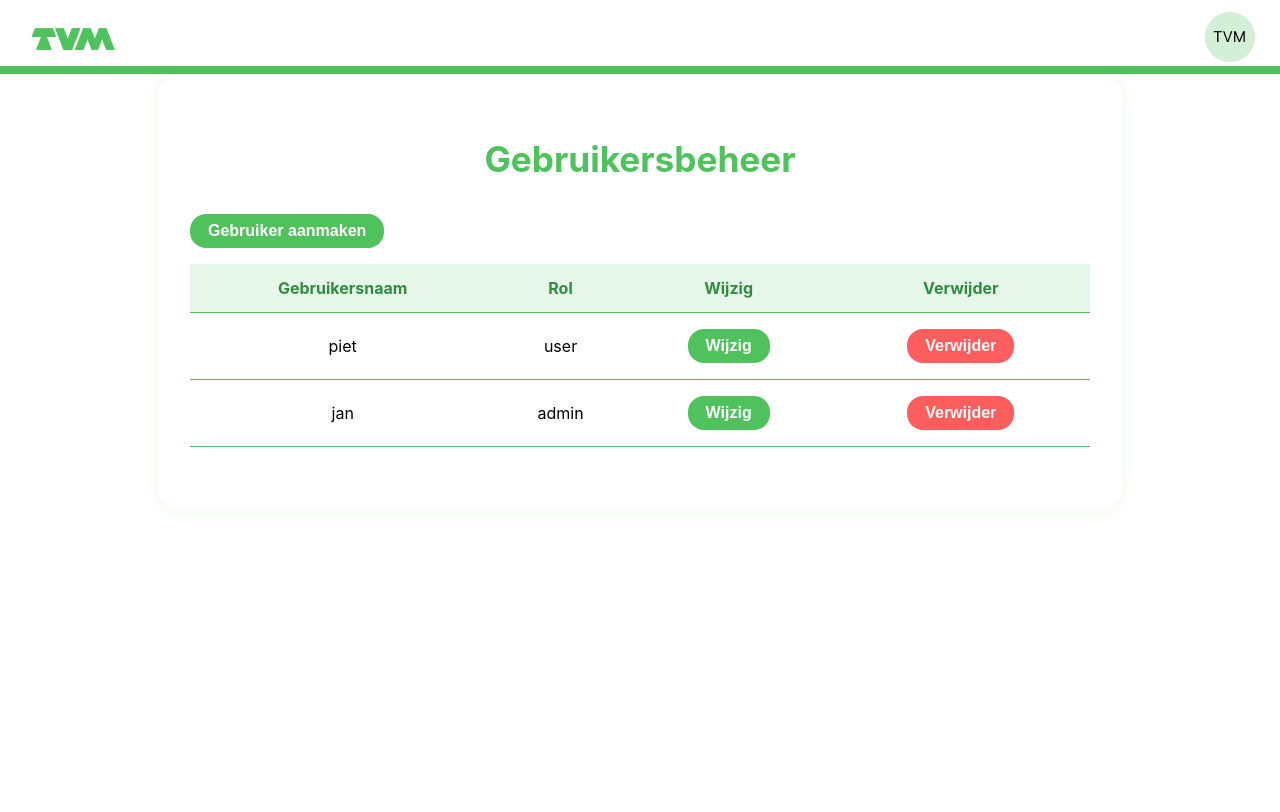
Test: kan een gebruiker toevoegen
Click the button "Gebruiker aanmaken". click: (287, 231)
box: [190,214,384,248]
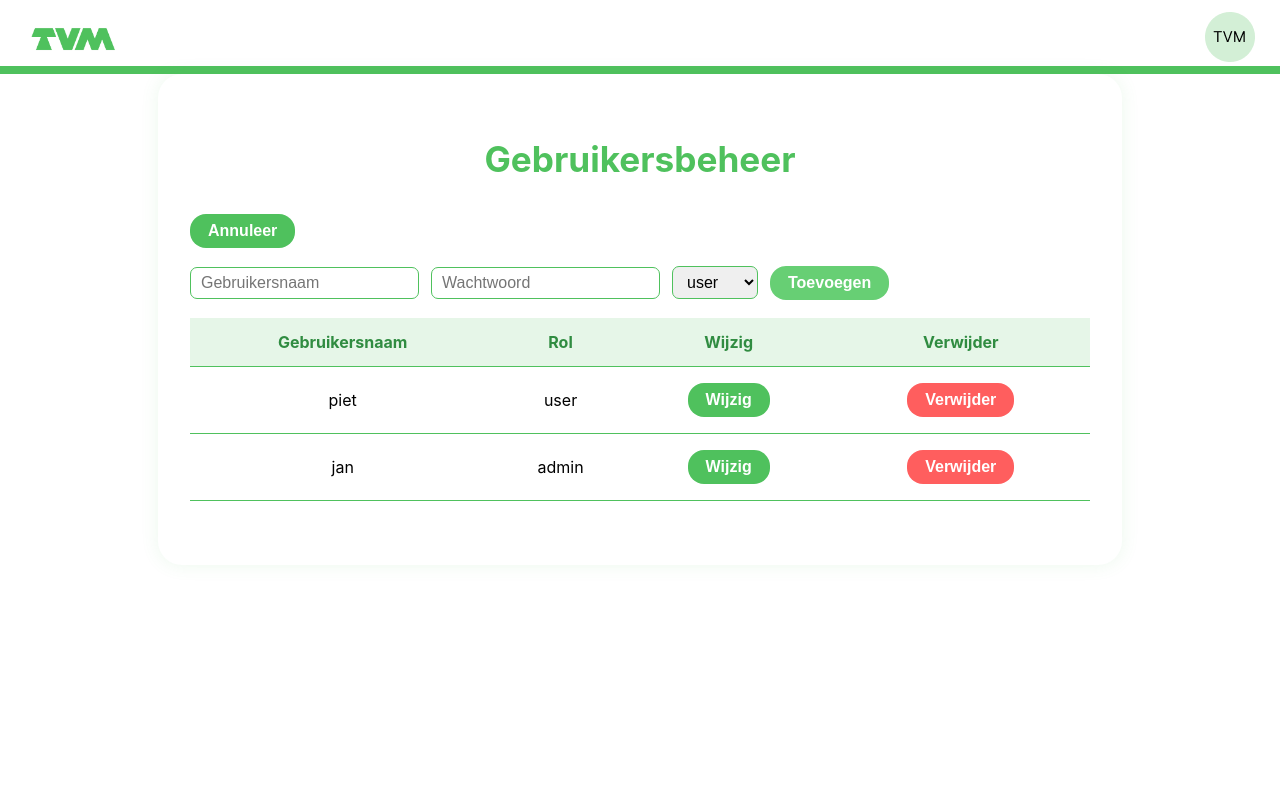
Type "klaas" into the field with placeholder "Gebruikersnaam". click: (304, 283)
box: [190,267,419,299]
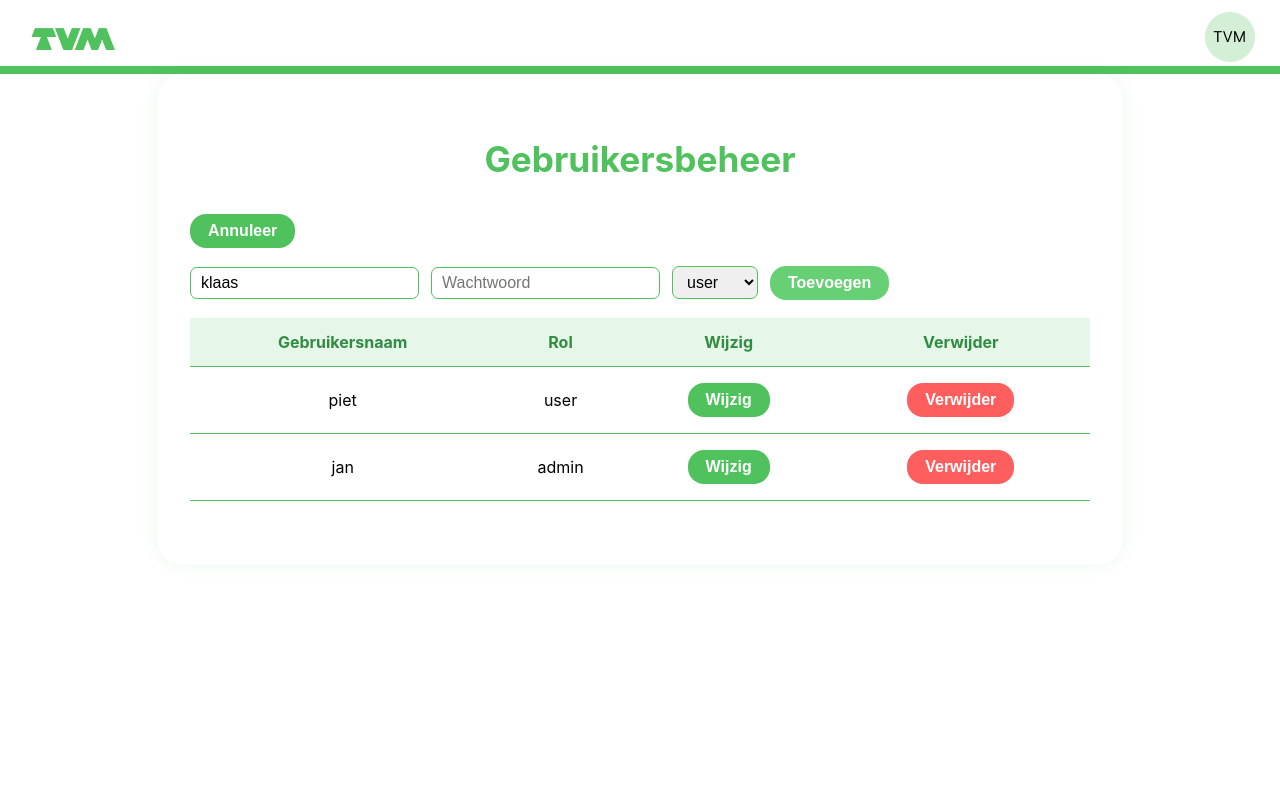
Type "test123" into the password field with placeholder "Wachtwoord". click: (546, 283)
box: [431,267,660,299]
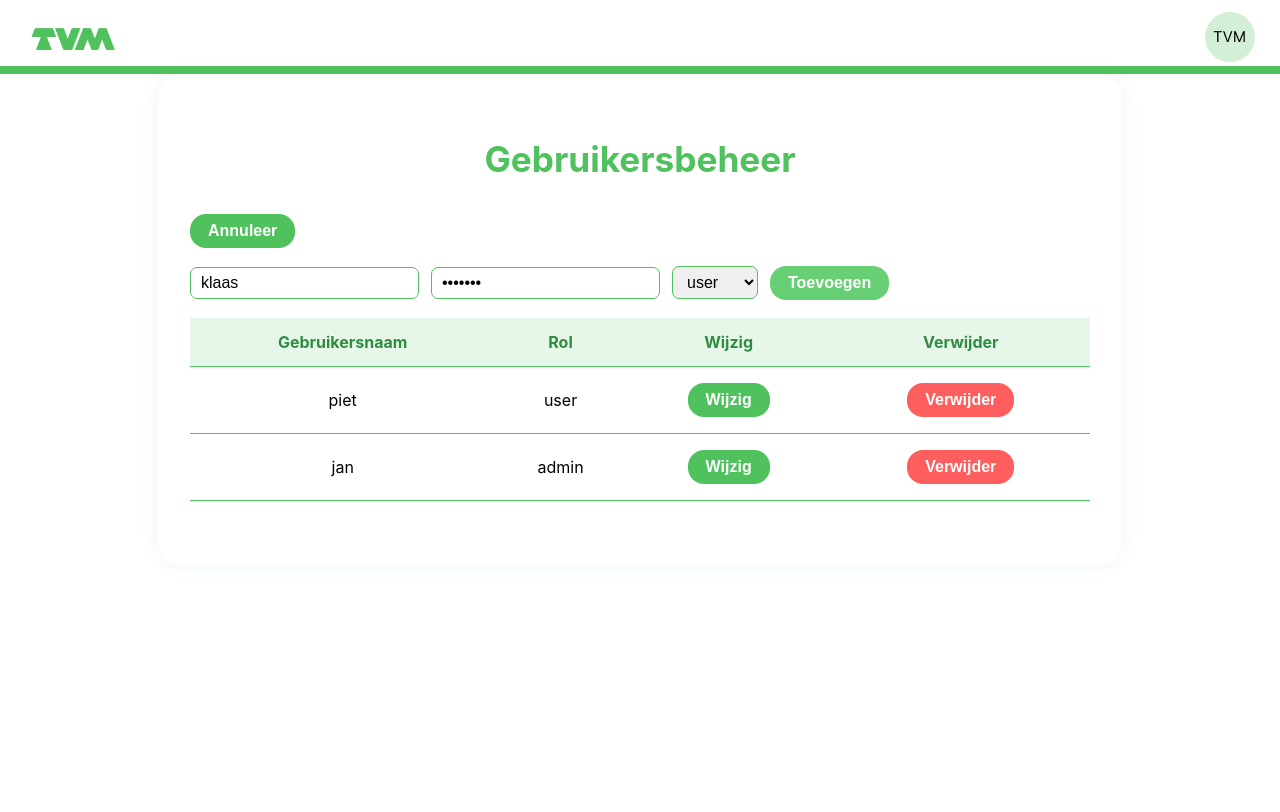
Select "admin" in the dropdown showing "user". click: (715, 283)
box: [672,266,758,299]
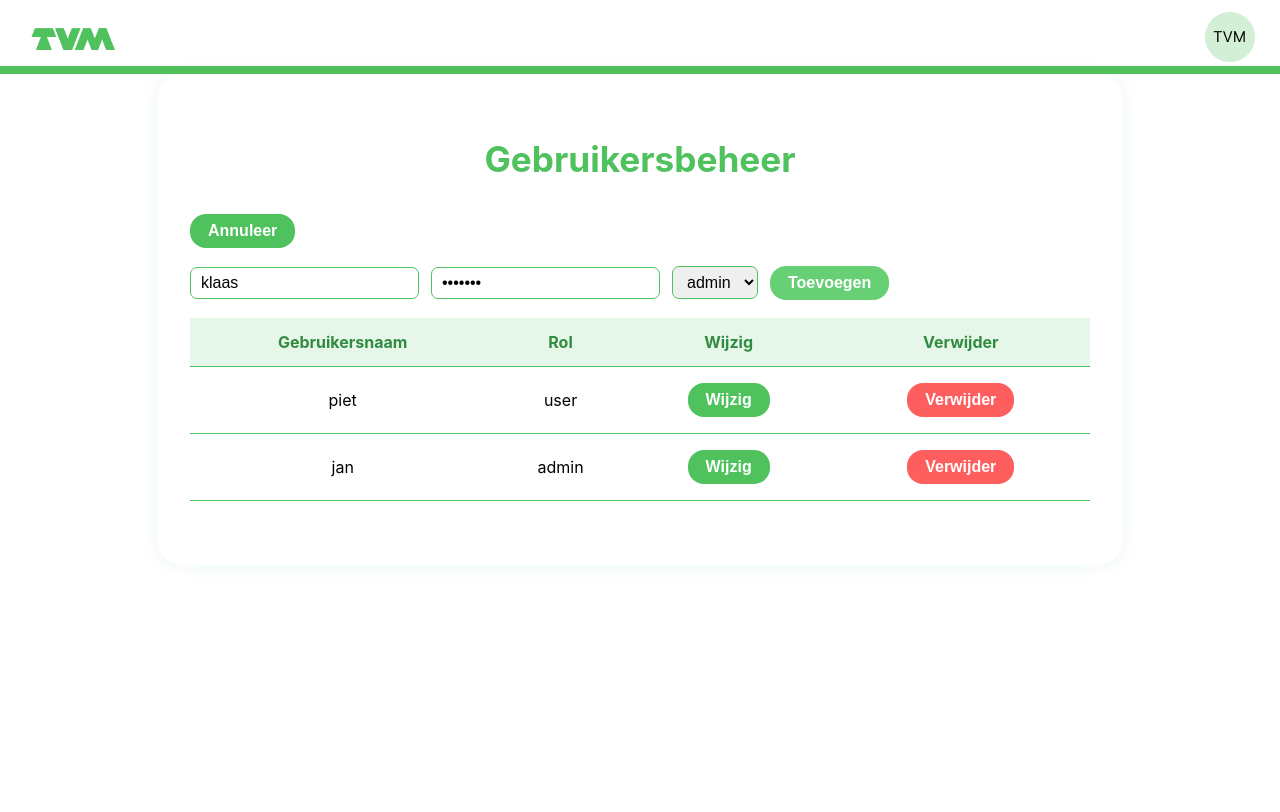
Click the button "Toevoegen". click: (830, 283)
box: [770,266,889,300]
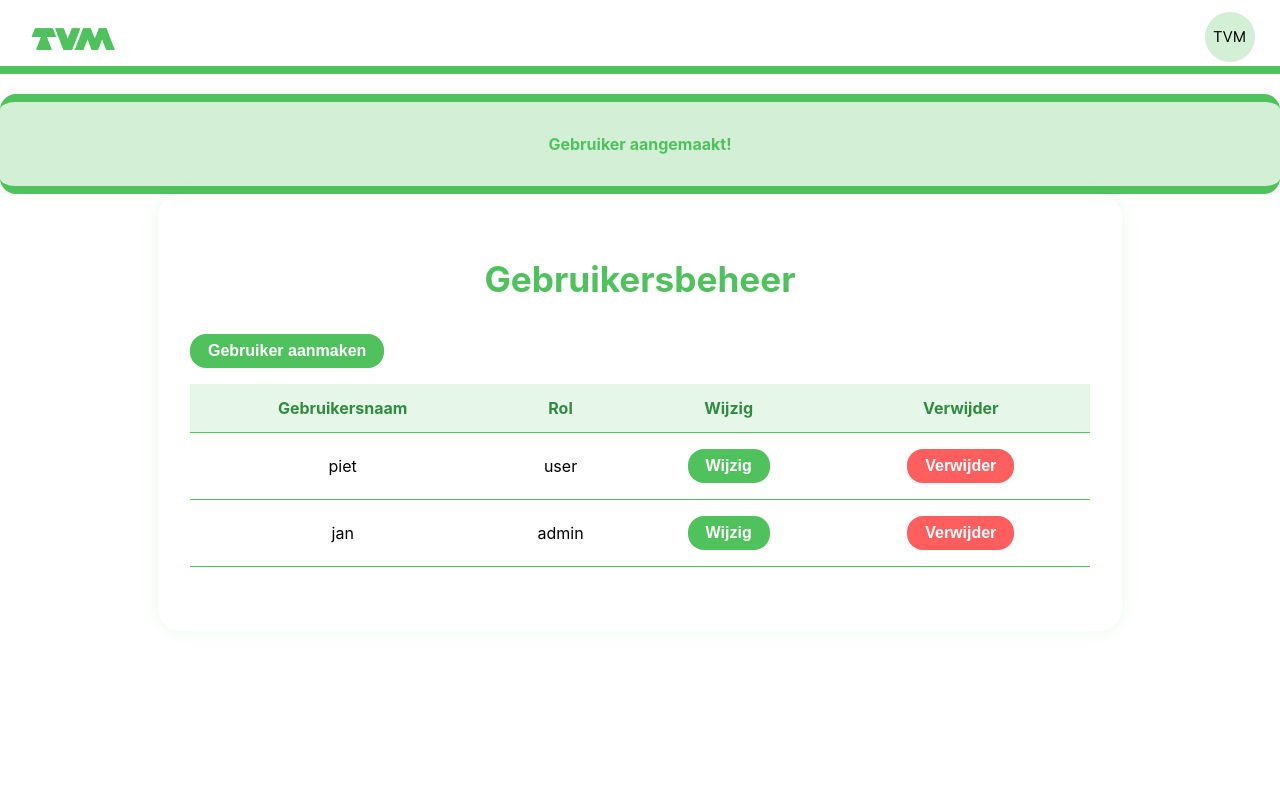
Result: the text "Gebruiker aangemaakt!" is shown at [0,94,1279,194]
